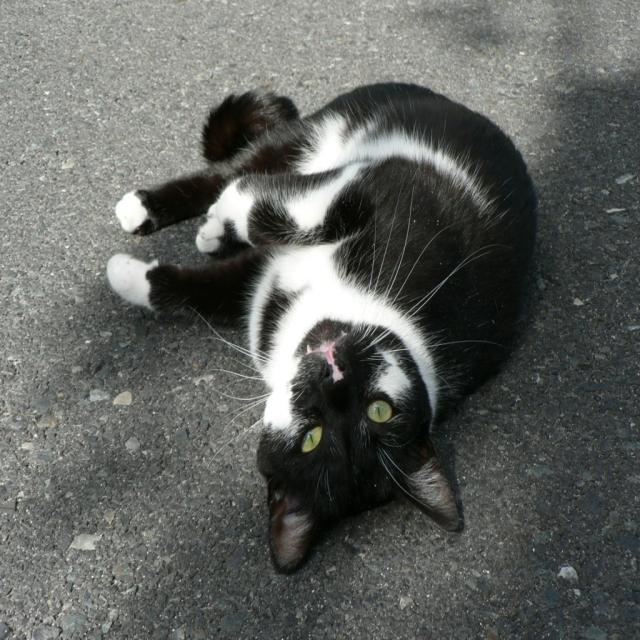Cat: (106, 80, 536, 574)
